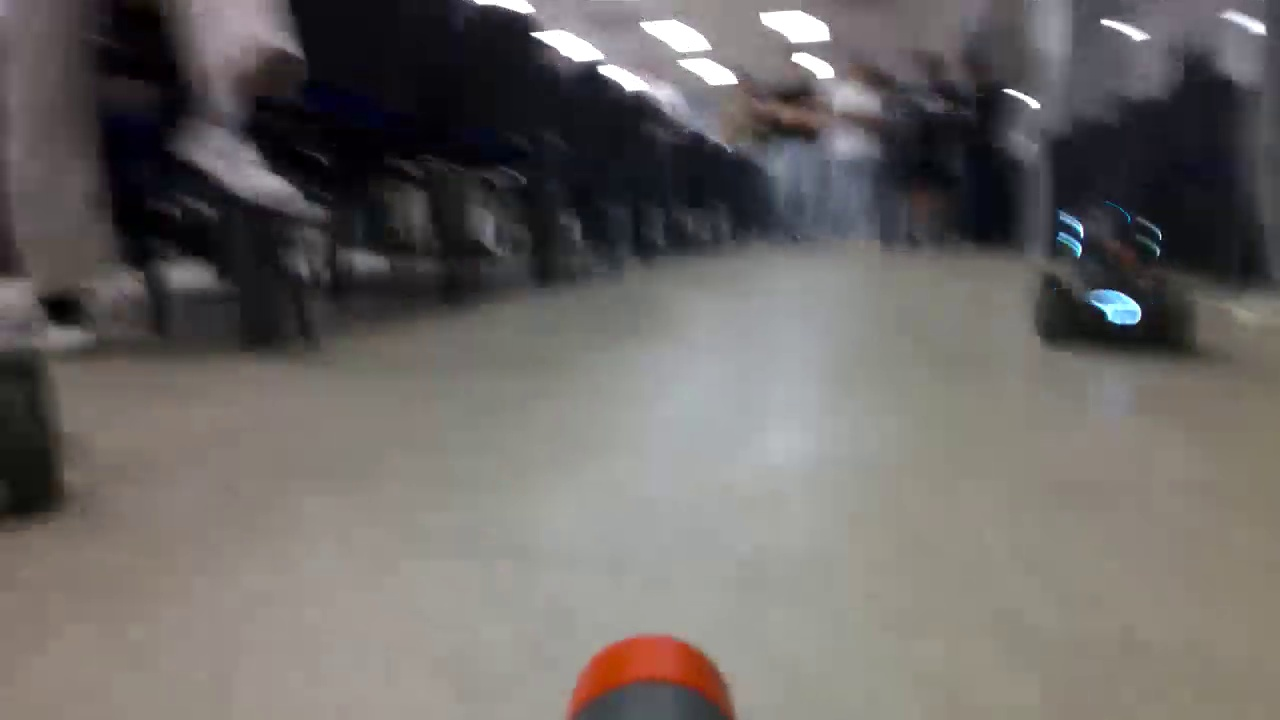robot: (1035, 210, 1200, 355)
